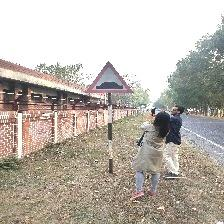Speed-breaker: (85, 62, 132, 93)
